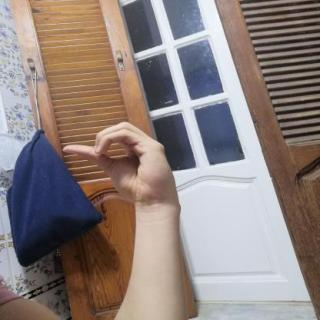WAW: (50, 115, 186, 210)
